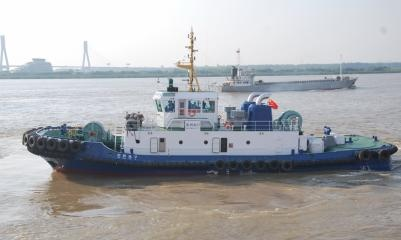Cargoship: (216, 51, 358, 93)
otherboat: (19, 49, 395, 182)
